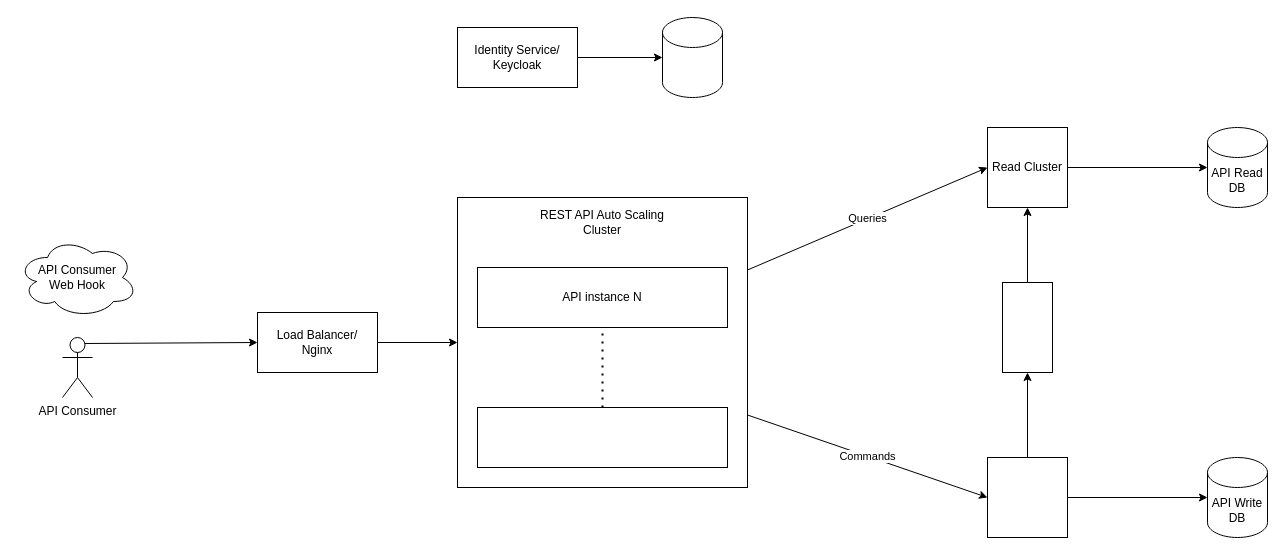
The diagram is 1285 pixels wide and 555 high, and some of its shapes have lost their labels. The shapes that lost their labels are listed below. From the top down, each one's centre as x and y in pixels, then its label:
At point 692,57: "Identity DB".
At point 1027,327: "Write Queue".
At point 602,437: "Api Instance 1".
At point 1027,497: "Write Cluster".
